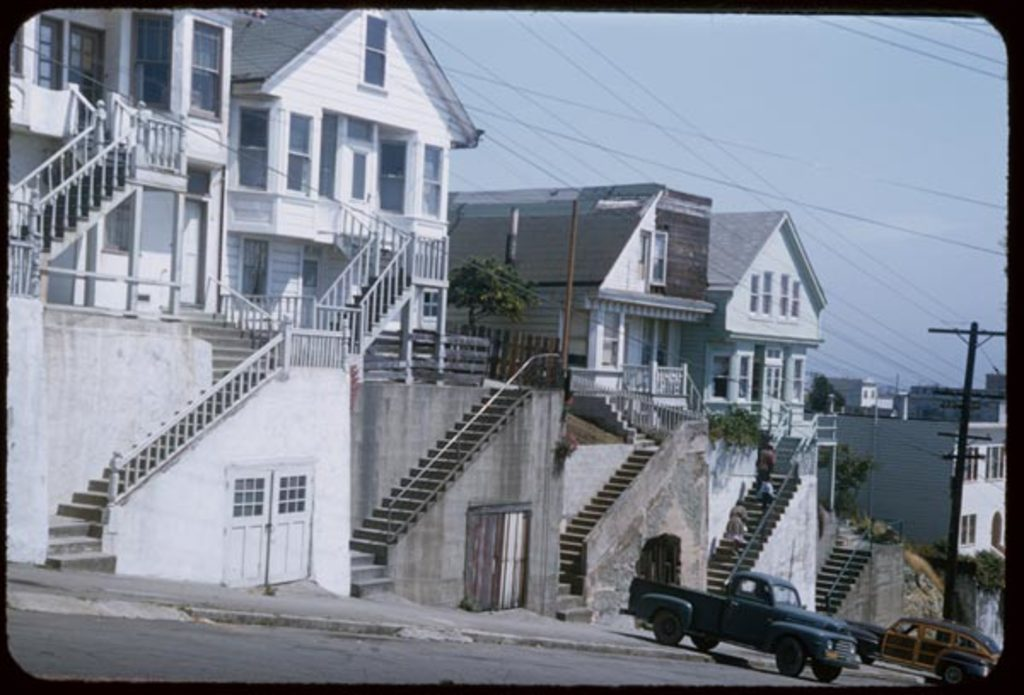Car: (844, 624, 1006, 691)
